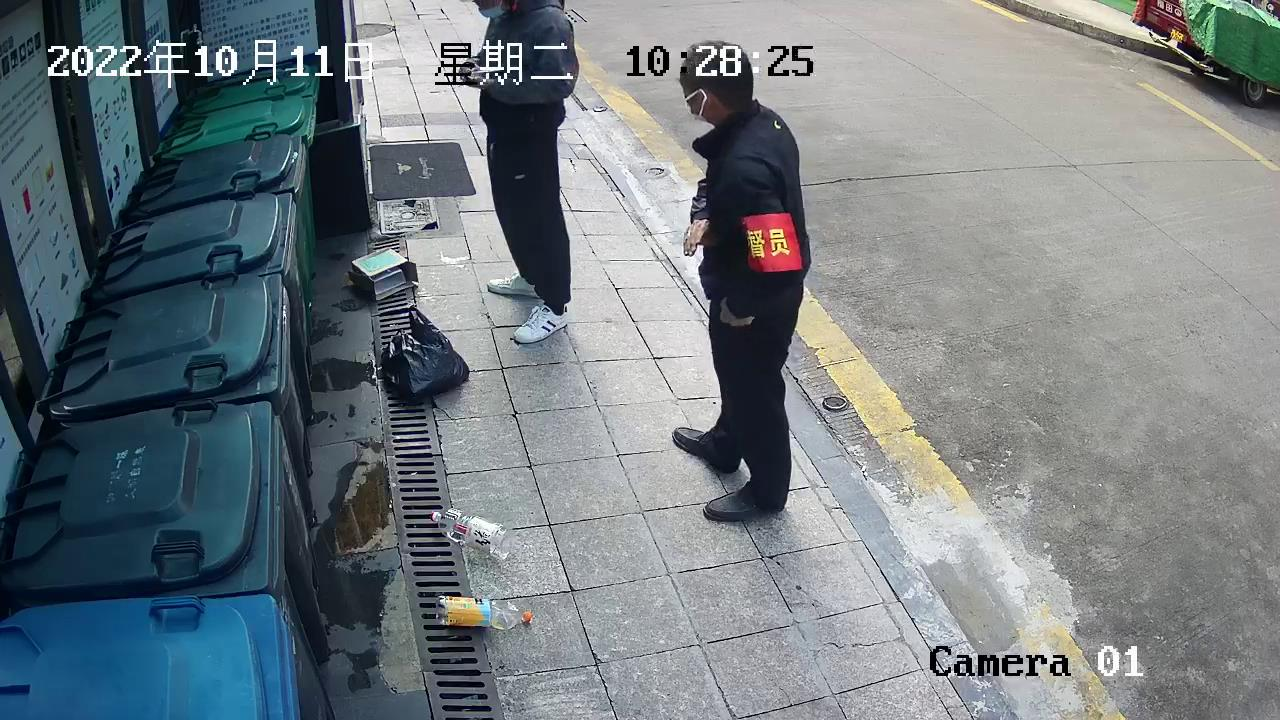garbage-bag: (375, 303, 480, 408)
suliaozhipin: (425, 504, 515, 565), (430, 590, 538, 634)
worker: (663, 34, 820, 529)
zhizhipin: (340, 241, 425, 306)
